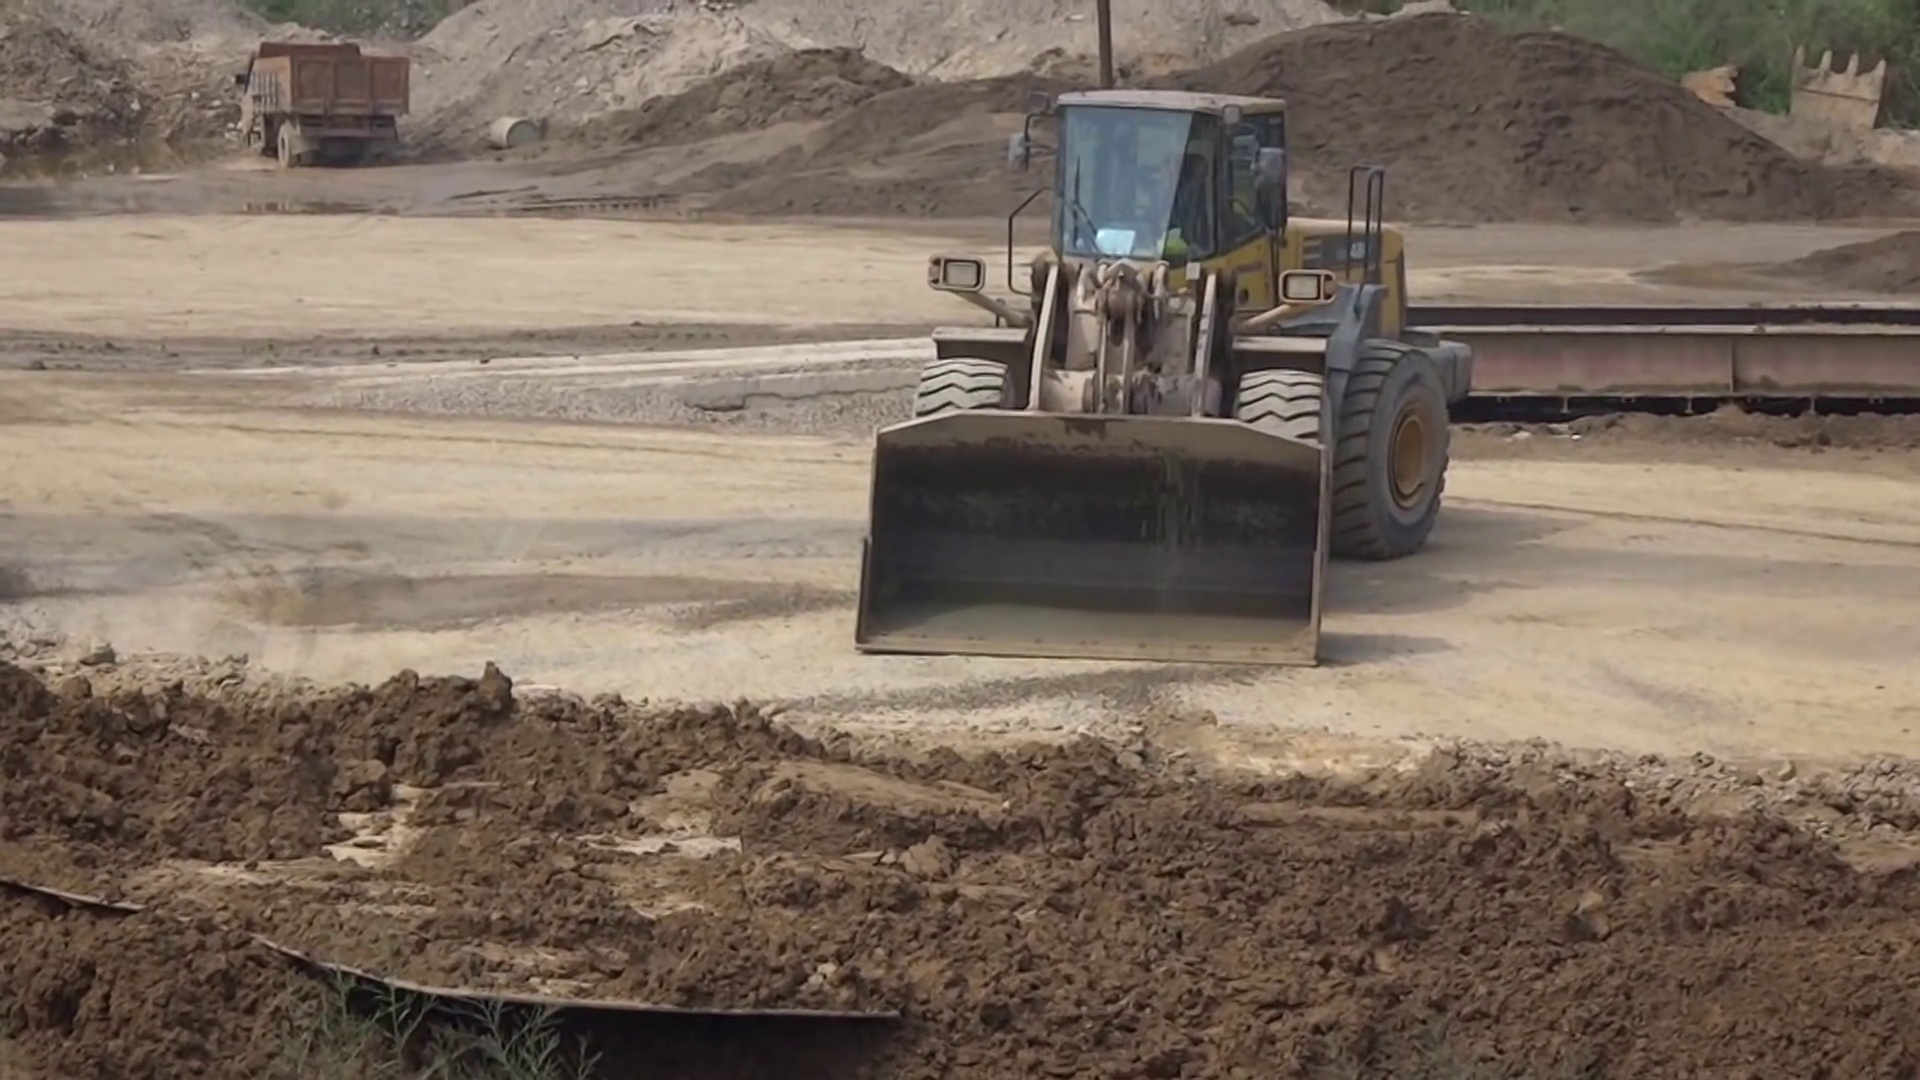truck: (237, 33, 411, 167)
wheel loader: (861, 82, 1469, 673)
